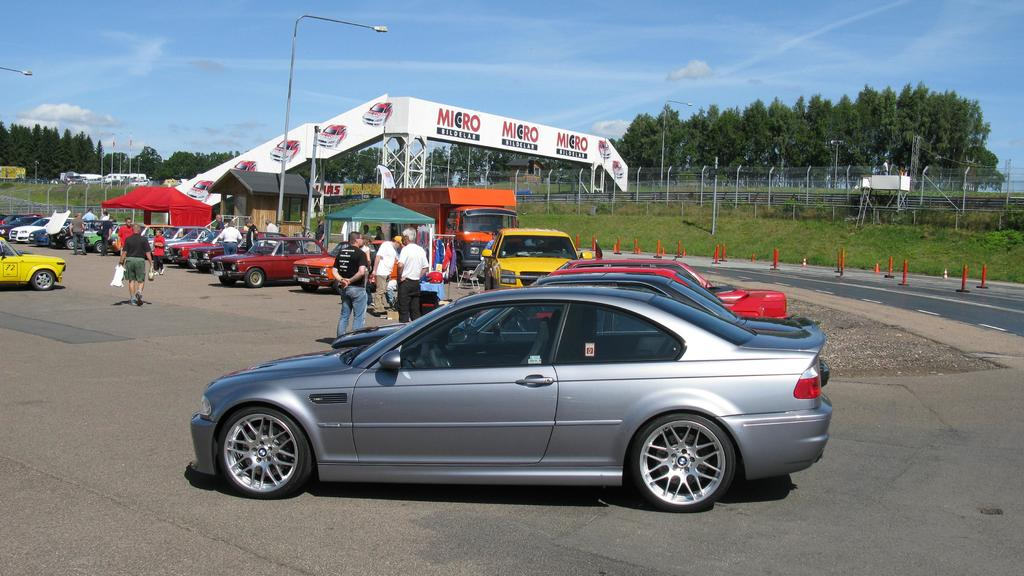Car: (0, 208, 833, 510)
